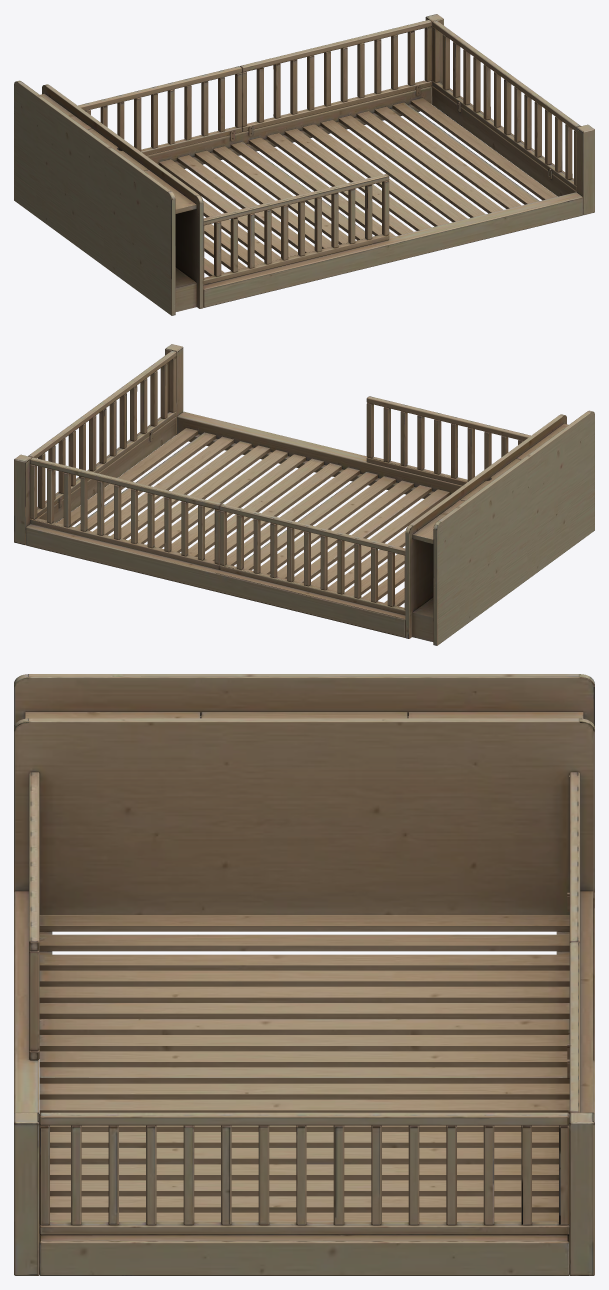
3 views of the same model, one above another, from view 1: azimuth 30°, elevation 25°; view 2: azimuth 150°, elevation 25°; view 3: azimuth 270°, elevation 25° (orthographic). The views are drawn at different scales.
Visible parts, largest first — view 1: 190x120; view 2: 190x120; view 3: 190x120.
Part boxes in pixels (bbox=[...]): 190x120: bbox=[14, 14, 594, 315]; 190x120: bbox=[14, 344, 594, 645]; 190x120: bbox=[14, 674, 594, 1275].
Size of the model in its own units: 2.12 by 0.58 by 1.37.
Materials: 1 (1 with a texture image).
